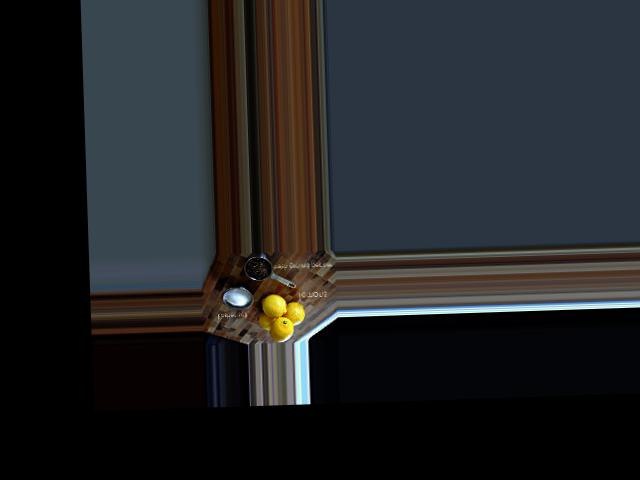lemon: (255, 310, 275, 329)
